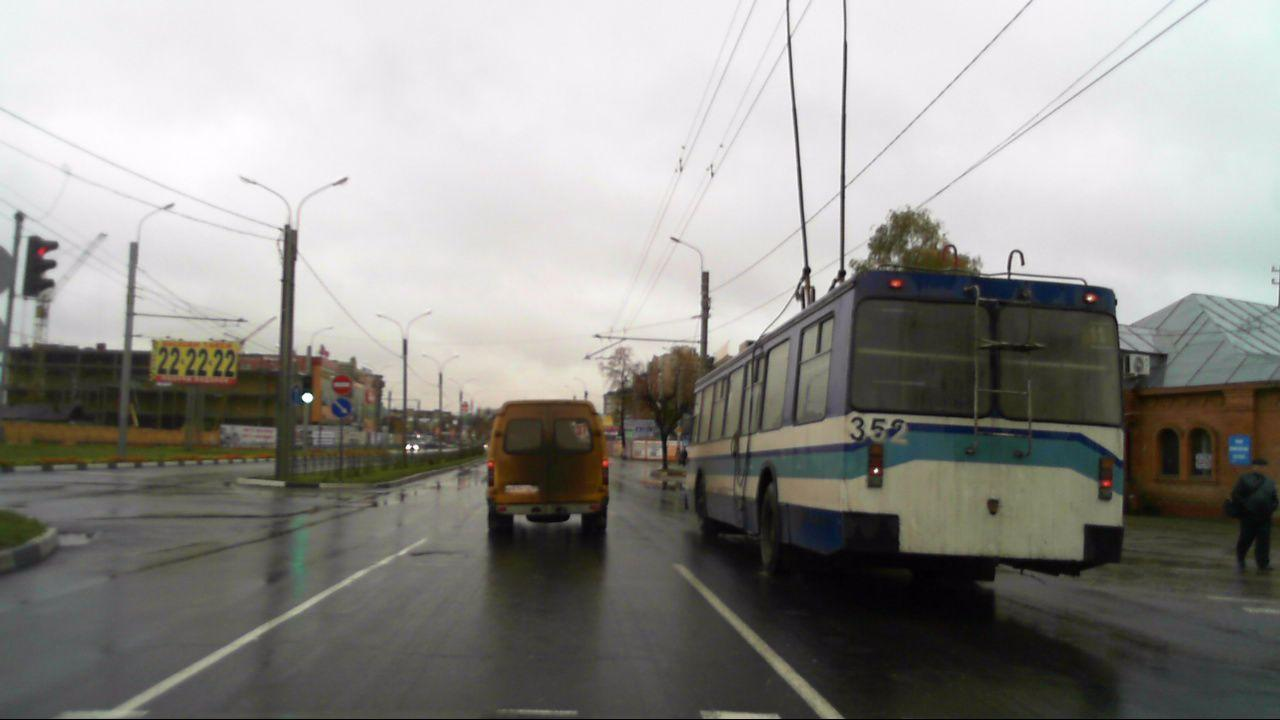road_sign: (331, 374, 353, 394), (332, 398, 352, 417)
traffic light: (21, 233, 64, 303)
